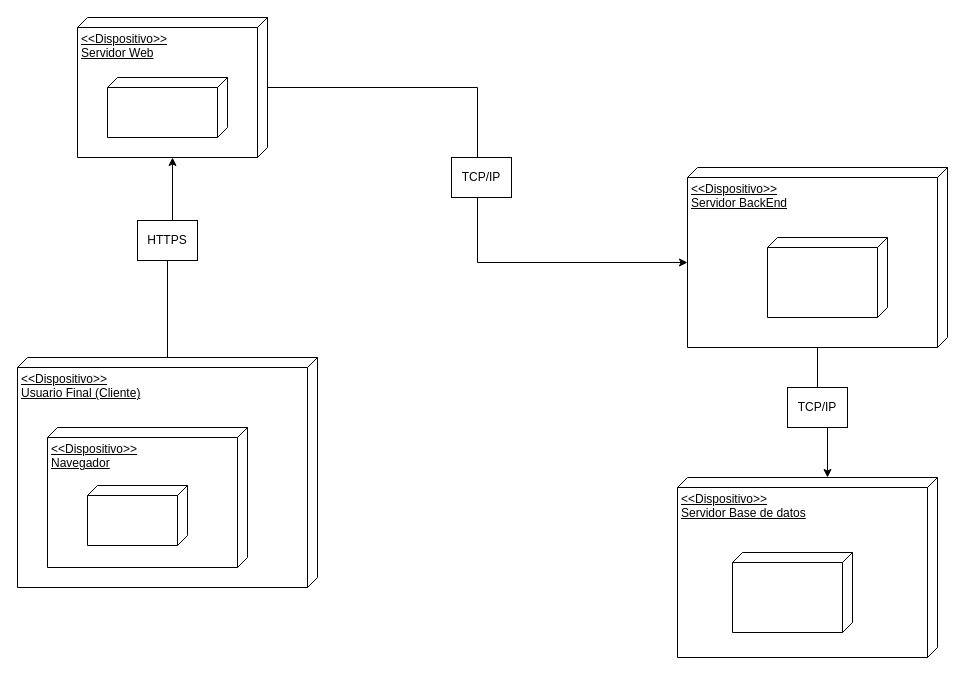
Image size: 965x675. Some labels were removed from this diagram. The shapes that lost their labels are listed below. From the top down, each one's centre as x and y in pixels, then its label:
pixel 167 107: <<Artefacto>> Front End
pixel 827 277: <<Artefacto>> Reglas Negocio Node.js
pixel 137 515: <<Artefacto>> HTML
pixel 792 592: <<Artefacto>> MySQL DB
